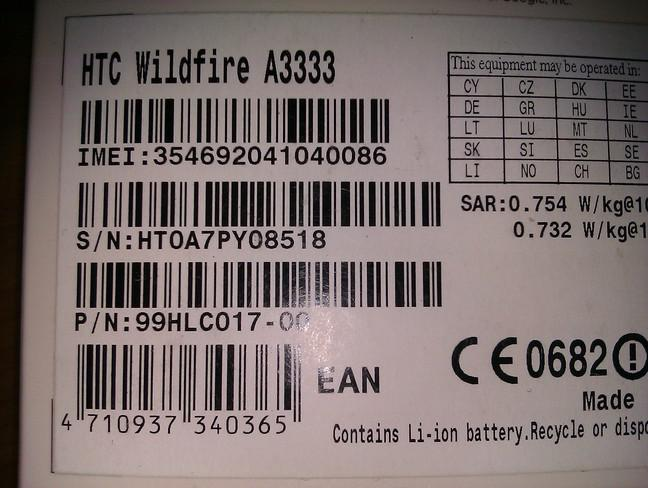Barkod: (52, 336, 310, 433)
